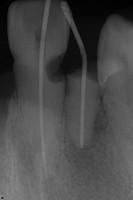Furcation Involvement: (64, 127, 99, 172)
